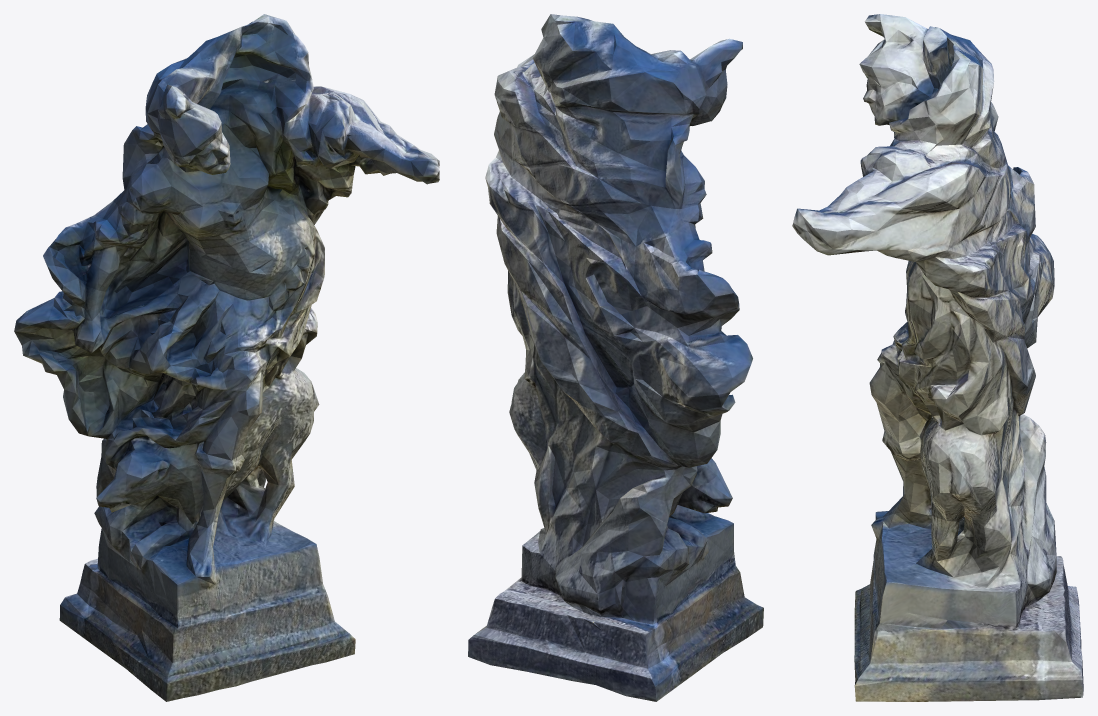
File: hnev.glb
3 views of the same model, side by side, from view 1: azimuth 30°, elevation 25°; view 2: azimuth 150°, elevation 25°; view 3: azimuth 270°, elevation 25° (orthographic). The views are drawn at different scales.
Parts seen in each view (by area): view 1: Hnev; view 2: Hnev; view 3: Hnev.
Part boxes in pixels (x1,y1,x2,y2): Hnev: [14, 14, 439, 701]; Hnev: [468, 14, 763, 701]; Hnev: [792, 14, 1083, 701].
Bounding box in the file's own units: 1.52 × 2.75 × 1.15.
1 material, 1 textured.
